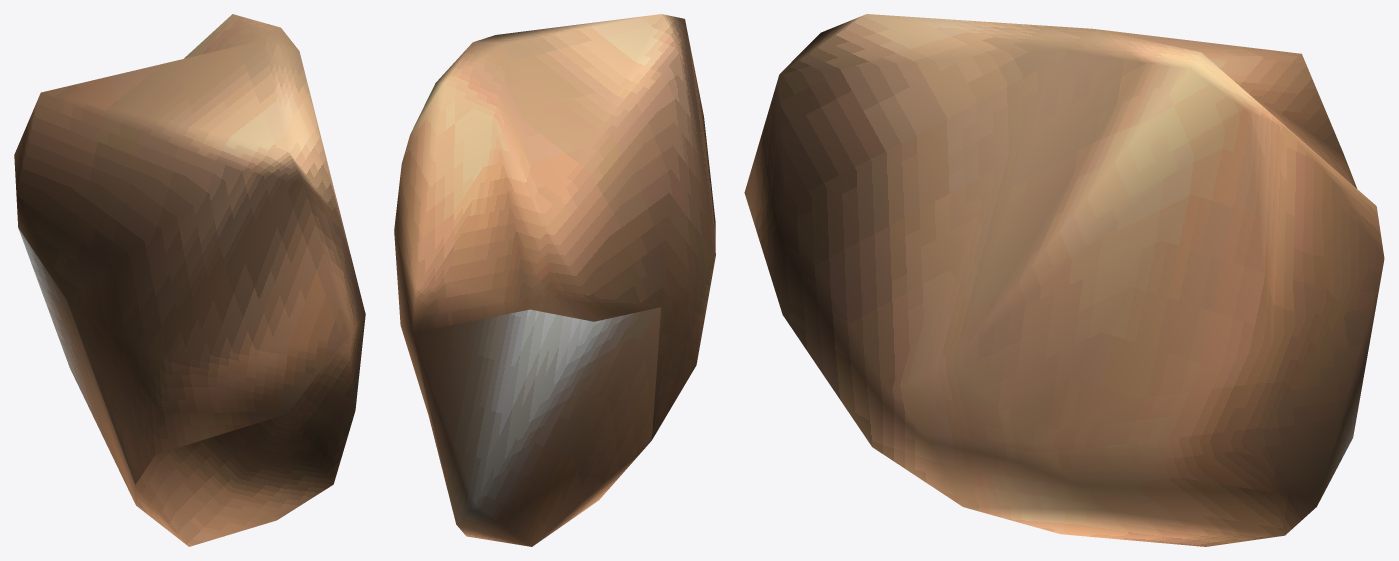
File: THROWINGSTONE.fbx
3 renders of one model, left to right at view 1: azimuth 30°, elevation 25°; view 2: azimuth 150°, elevation 25°; view 3: azimuth 270°, elevation 25°, orthographic. The views are drawn at different scales.
Visible parts, largest first — view 1: THROWINGSTONE; view 2: THROWINGSTONE; view 3: THROWINGSTONE.
Boxes of the visible parts, box(x1,y1,x2,y2) form: THROWINGSTONE: box(14, 14, 365, 546); THROWINGSTONE: box(394, 14, 715, 546); THROWINGSTONE: box(744, 14, 1384, 546).
Size of the model in its own units: 316 by 681 by 702.
